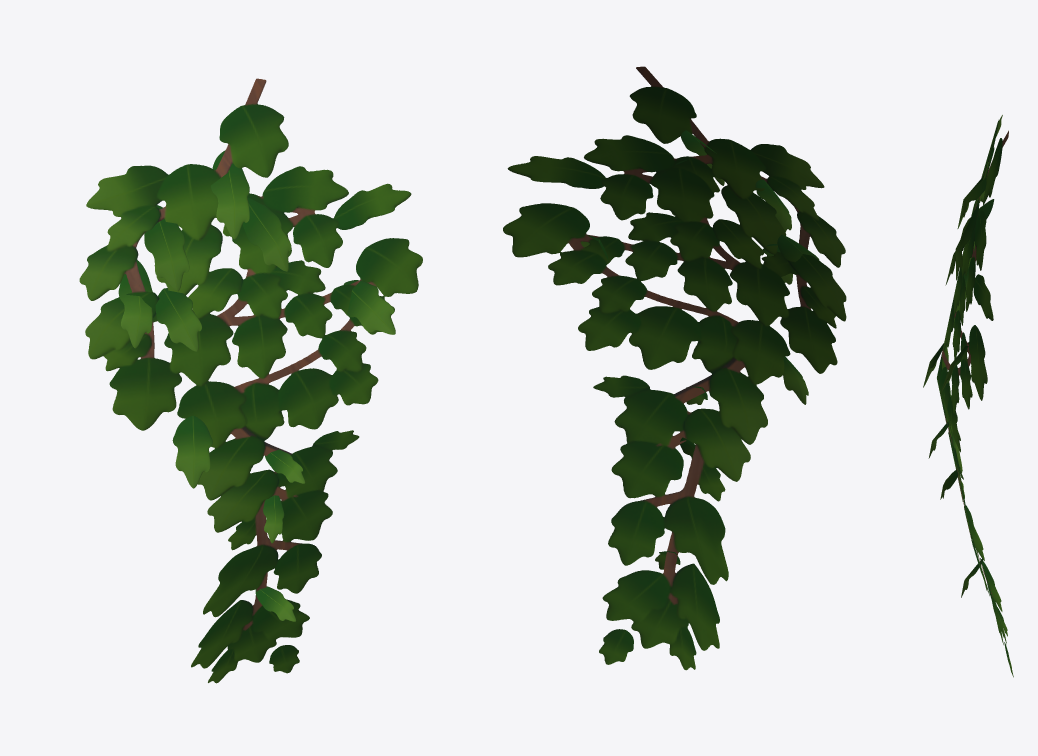
Rendered from ivy.glb.
The picture shows the model from 3 angles, left to right: view 1: azimuth 30°, elevation 25°; view 2: azimuth 150°, elevation 25°; view 3: azimuth 270°, elevation 25°; orthographic projection. The views are drawn at different scales.
Parts seen in each view (by area): view 1: ivy; view 2: ivy; view 3: ivy.
Boxes of the visible parts, <box> form: ivy: <box>79,78,422,683</box>; ivy: <box>503,66,846,670</box>; ivy: <box>923,115,1013,677</box>.
Size of the model in its own units: 1.03 by 1.54 by 0.2551.
1 material, 1 textured.
